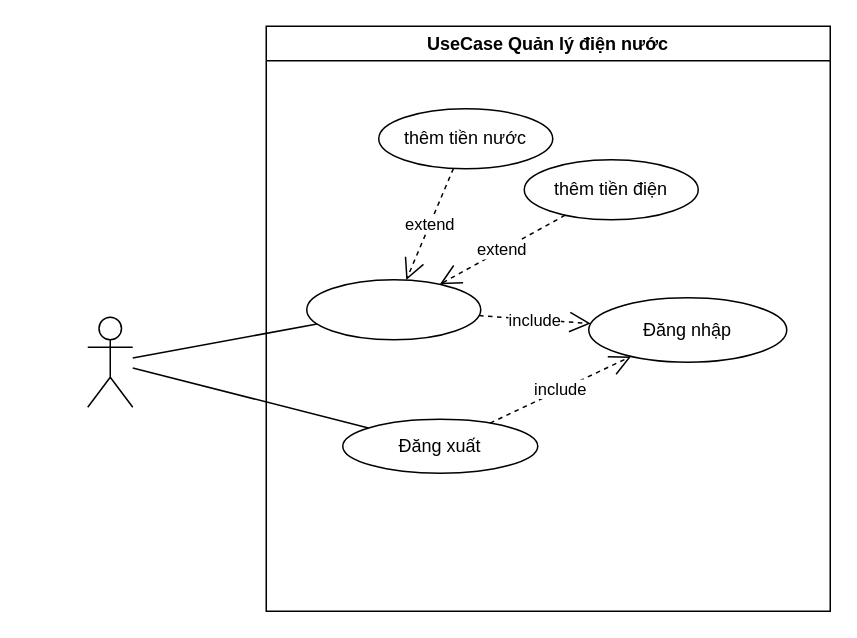
The diagram is 857 pixels wide and 638 high, and some of its shapes have lost their labels. The shapes that lost their labels are listed below. From the top down, each one's centre as x and y in pixels, then its label:
the point at 393,309: Quản lý điện nước
the point at 109,361: Nhân viên điện nước
